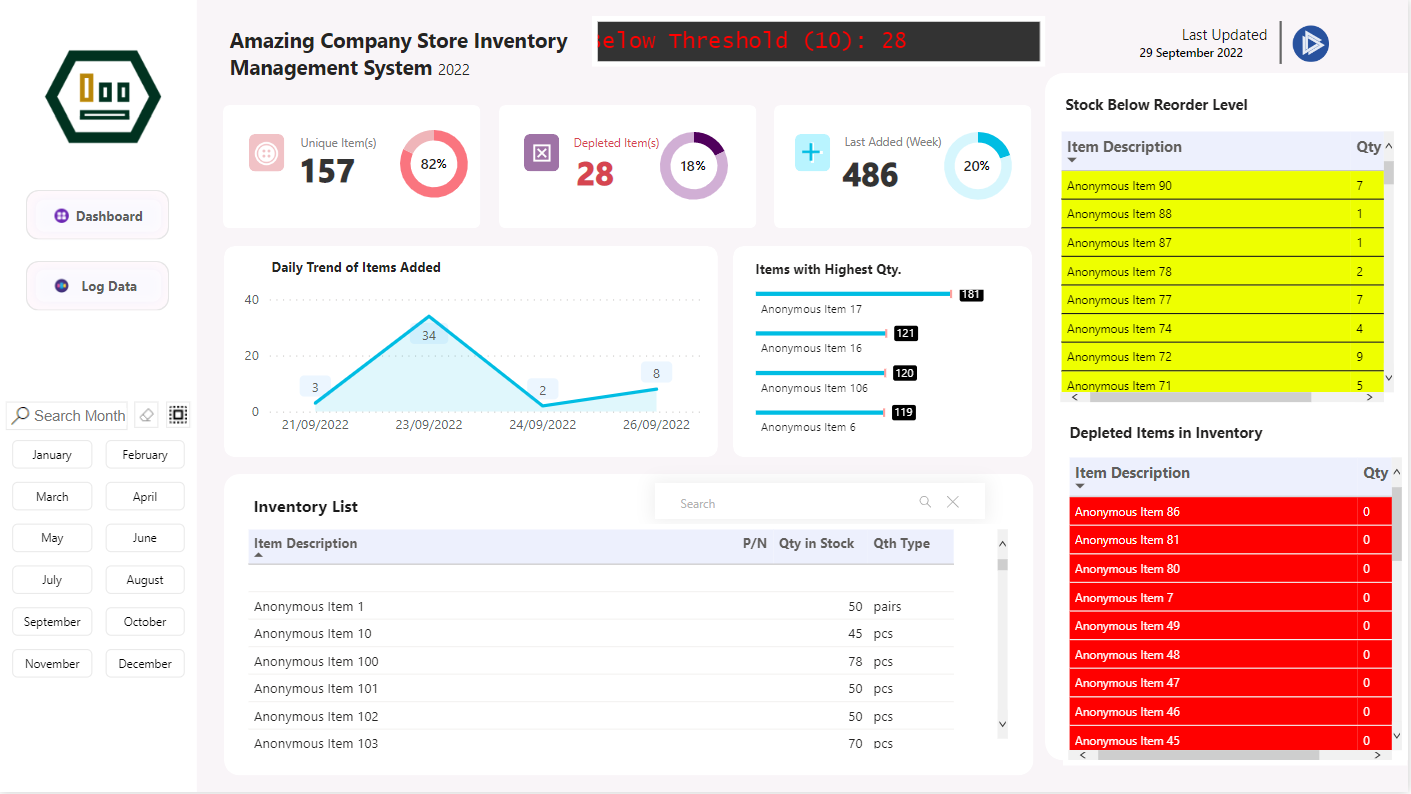

The page's visual inventory and layout, read from the dashboard file:
{"tool":"powerbi","page":{"name":"Master Dashboard","canvas":[1280,720],"ordinal":0},"visuals":[{"type":"shape","box":[0,0,178.9,720],"z":0},{"type":"card","fields":{"Values":["Metrics.Measure"]},"box":[374.2,137.5,30.2,27.2],"z":0,"group":"g4"},{"type":"card","fields":{"Values":["Metrics.percent depleted"]},"box":[610.2,139.1,30.2,27.2],"z":0,"group":"g3"},{"type":"card","fields":{"Values":["Metrics.precent added"]},"box":[868.6,139.1,30.2,27.2],"z":0,"group":"g2"},{"type":"shape","box":[595.9,439.9,300,33.3],"z":0,"group":"g1"},{"type":"textbox","box":[389,133.6,24.3,28.1],"z":1000,"group":"g4"},{"type":"textbox","box":[625,135.2,24.3,28.1],"z":1000,"group":"g3"},{"type":"textbox","box":[883.4,135.2,24.3,28.1],"z":1000,"group":"g2"},{"type":"shape","box":[969.7,169.9,10.9,11.8],"z":1000,"group":"g5"},{"type":"shape","box":[969,227.9,11.7,11.7],"z":1000,"group":"g6"},{"type":"shape","box":[969,292.4,11.7,11.7],"z":1000,"group":"g7"},{"type":"shape","box":[203.3,431.1,735.6,274.4],"z":1000},{"type":"textSearchSlicerF85E2E78BE4A4D7D9F99ED75B5D71C85","fields":{"fields":["master_table.Item Description"]},"box":[602.9,434,287,47],"z":1000,"group":"g1"},{"type":"shape","box":[203.3,223.3,448.9,192.2],"z":2000},{"type":"shape","box":[950,66.7,330,625],"z":3000},{"type":"shape","box":[666.7,223.3,272.2,192.2],"z":4000},{"type":"shape","box":[203,95.7,234.3,111.8],"z":5000},{"type":"shape","box":[453.6,95.6,234,112],"z":6000},{"type":"shape","box":[703.9,95.7,234.3,111.8],"z":7000},{"type":"Slicer1448559807355","fields":{"Category":["Calender Table.Date.Variation.Date Hierarchy.Month"]},"box":[0,349.7,178.9,370.3],"z":8000},{"type":"group","id":"g1","title":"Group 1","box":[595.9,434,300,47],"z":9000},{"type":"textbox","box":[203.3,18.5,321.9,76.8],"z":10000},{"type":"areaChart","fields":{"Y":["CountNonNull(items_added.ITEM DESCRIPTION)"],"Category":["items_added.DATE ADDED"]},"box":[217,258,427,146],"z":11000},{"type":"tableEx","fields":{"Values":["master_table.ITEM DESCRIPTION","master_table.P/N","Sum(master_table.QTY IN STOCK2)","master_table.QTY TYPE"]},"box":[220,476,701,209],"z":12000},{"type":"textbox","box":[225.6,444.4,127.8,32.2],"z":13000},{"type":"shape","box":[226.3,121.6,32,34],"z":14000},{"type":"shape","box":[476.7,121.6,32.2,34],"z":15000},{"type":"shape","box":[722.8,121.6,32.2,34],"z":16000},{"type":"card","fields":{"Values":["CountNonNull(master_table.Item Description)"]},"box":[254,131,87,47],"z":17000},{"type":"textbox","box":[268.3,114.5,128.8,28.6],"z":18000},{"type":"textbox","box":[516.1,114.5,128.8,28.6],"z":19000},{"type":"textbox","box":[763,114,132,29],"z":20000},{"type":"card","fields":{"Values":["Metrics.depleted items"]},"box":[503,134,77,47],"z":21000},{"type":"card","fields":{"Values":["Metrics.quantity added"]},"box":[750.5,134.2,81.4,46.5],"z":22000},{"type":"donutChart","fields":{"Y":["Metrics.quantity added","Metrics.older items"]},"box":[844.3,107.3,88.5,86.8],"z":23000},{"type":"group","id":"g2","title":"Group 2","box":[868.6,135.2,39,31.1],"z":24000},{"type":"donutChart","fields":{"Y":["Metrics.depleted items","Metrics.active items"]},"box":[585.9,107.3,88.5,86.8],"z":25000},{"type":"group","id":"g3","title":"Group 2","box":[610.2,135.2,39,31.1],"z":26000},{"type":"donutChart","fields":{"Y":["Metrics.active items","Metrics.depleted items"]},"box":[349.9,105.7,88.5,86.8],"z":27000},{"type":"group","id":"g4","title":"Group 2","box":[374.2,133.6,39,31.1],"z":28000},{"type":"shape","box":[24,173.1,130,45],"z":29000},{"type":"shape","box":[24,237.1,130,45],"z":30000},{"type":"BarChartF5983CEA542C47889C9DE852B430DE5F","fields":{"category":["master_table.Item Description"],"measure":["Sum(master_table.Qty in Stock)"]},"box":[682,258,245,147],"z":31000},{"type":"textbox","box":[682,230,201,33],"z":32000},{"type":"shape","box":[1143,19,43,39],"z":33000},{"type":"textbox","box":[1028,17,129,29],"z":34000},{"type":"card","fields":{"Values":["Metrics.Updated"]},"box":[975,33,215,36],"z":35000},{"type":"tableEx","fields":{"Values":["master_table.Item Description","master_table.Qty in Stock"]},"box":[966,411,313,285],"z":36000},{"type":"textbox","box":[967,379,201,33],"z":37000},{"type":"group","id":"g5","title":"Group 3","box":[969.7,169.9,10.9,11.8],"z":38000},{"type":"group","id":"g6","title":"Group 3","box":[969,227.9,11.7,11.7],"z":39000},{"type":"group","id":"g7","title":"Group 3","box":[969,292.4,11.7,11.7],"z":40000},{"type":"actionButton","box":[24.1,173.5,129.7,44.7],"z":41000},{"type":"actionButton","box":[24.1,237,129.7,44.7],"z":42000},{"type":"ScrollingTextVisual1448795304508","fields":{"Measure Absolute":["Sum(Table.Data_info)"],"Category":["Scroller Item.Information"]},"box":[538.5,14.4,411.5,46.2],"z":43000},{"type":"image","box":[223,119,39,40],"z":44000},{"type":"image","box":[474,119,38,40],"z":45000},{"type":"image","box":[723,123,32,32],"z":46000},{"type":"image","box":[723,124,29,29],"z":47000},{"type":"textbox","box":[242,228,201,33],"z":48000},{"type":"tableEx","fields":{"Values":["master_table.Item Description","master_table.Qty in Stock"]},"box":[958.9,114.4,313.3,255.6],"z":49000},{"type":"textbox","box":[963.3,81.1,201.1,33.3],"z":50000},{"type":"image","box":[35,25.3,119.6,117.7],"z":51000},{"type":"image","box":[1168.1,18.5,46.7,42.8],"z":52000}]}

Visuals, with their boxes on the page's 1280x720 design canvas (x1, y1, x2, y2). These are canvas units, not pixel positions in the 1411x794 screenshot, which may show the page scaled, cropped or inside an application window:
shape: crop(0, 0, 179, 720)
card - Metrics.Measure: crop(374, 138, 404, 165)
card - Metrics.percent depleted: crop(610, 139, 640, 166)
card - Metrics.precent added: crop(869, 139, 899, 166)
shape: crop(596, 440, 896, 473)
textbox: crop(389, 134, 413, 162)
textbox: crop(625, 135, 649, 163)
textbox: crop(883, 135, 908, 163)
shape: crop(970, 170, 981, 182)
shape: crop(969, 228, 981, 240)
shape: crop(969, 292, 981, 304)
shape: crop(203, 431, 939, 706)
textSearchSlicerF85E2E78BE4A4D7D9F99ED75B5D71C85 - master_table.Item Description: crop(603, 434, 890, 481)
shape: crop(203, 223, 652, 416)
shape: crop(950, 67, 1280, 692)
shape: crop(667, 223, 939, 416)
shape: crop(203, 96, 437, 208)
shape: crop(454, 96, 688, 208)
shape: crop(704, 96, 938, 208)
Slicer1448559807355 - Calender Table.Date.Variation.Date Hierarchy.Month: crop(0, 350, 179, 720)
"Group 1" group: crop(596, 434, 896, 481)
textbox: crop(203, 18, 525, 95)
areaChart - CountNonNull(items_added.ITEM DESCRIPTION) x items_added.DATE ADDED: crop(217, 258, 644, 404)
tableEx - master_table.ITEM DESCRIPTION x master_table.P/N: crop(220, 476, 921, 685)
textbox: crop(226, 444, 353, 477)
shape: crop(226, 122, 258, 156)
shape: crop(477, 122, 509, 156)
shape: crop(723, 122, 755, 156)
card - CountNonNull(master_table.Item Description): crop(254, 131, 341, 178)
textbox: crop(268, 114, 397, 143)
textbox: crop(516, 114, 645, 143)
textbox: crop(763, 114, 895, 143)
card - Metrics.depleted items: crop(503, 134, 580, 181)
card - Metrics.quantity added: crop(750, 134, 832, 181)
donutChart - Metrics.quantity added x Metrics.older items: crop(844, 107, 933, 194)
"Group 2" group: crop(869, 135, 908, 166)
donutChart - Metrics.depleted items x Metrics.active items: crop(586, 107, 674, 194)
"Group 2" group: crop(610, 135, 649, 166)
donutChart - Metrics.active items x Metrics.depleted items: crop(350, 106, 438, 192)
"Group 2" group: crop(374, 134, 413, 165)
shape: crop(24, 173, 154, 218)
shape: crop(24, 237, 154, 282)
BarChartF5983CEA542C47889C9DE852B430DE5F - master_table.Item Description x Sum(master_table.Qty in Stock): crop(682, 258, 927, 405)
textbox: crop(682, 230, 883, 263)
shape: crop(1143, 19, 1186, 58)
textbox: crop(1028, 17, 1157, 46)
card - Metrics.Updated: crop(975, 33, 1190, 69)
tableEx - master_table.Item Description x master_table.Qty in Stock: crop(966, 411, 1279, 696)
textbox: crop(967, 379, 1168, 412)
"Group 3" group: crop(970, 170, 981, 182)
"Group 3" group: crop(969, 228, 981, 240)
"Group 3" group: crop(969, 292, 981, 304)
actionButton: crop(24, 174, 154, 218)
actionButton: crop(24, 237, 154, 282)
ScrollingTextVisual1448795304508 - Sum(Table.Data_info) x Scroller Item.Information: crop(538, 14, 950, 61)
image: crop(223, 119, 262, 159)
image: crop(474, 119, 512, 159)
image: crop(723, 123, 755, 155)
image: crop(723, 124, 752, 153)
textbox: crop(242, 228, 443, 261)
tableEx - master_table.Item Description x master_table.Qty in Stock: crop(959, 114, 1272, 370)
textbox: crop(963, 81, 1164, 114)
image: crop(35, 25, 155, 143)
image: crop(1168, 18, 1215, 61)
